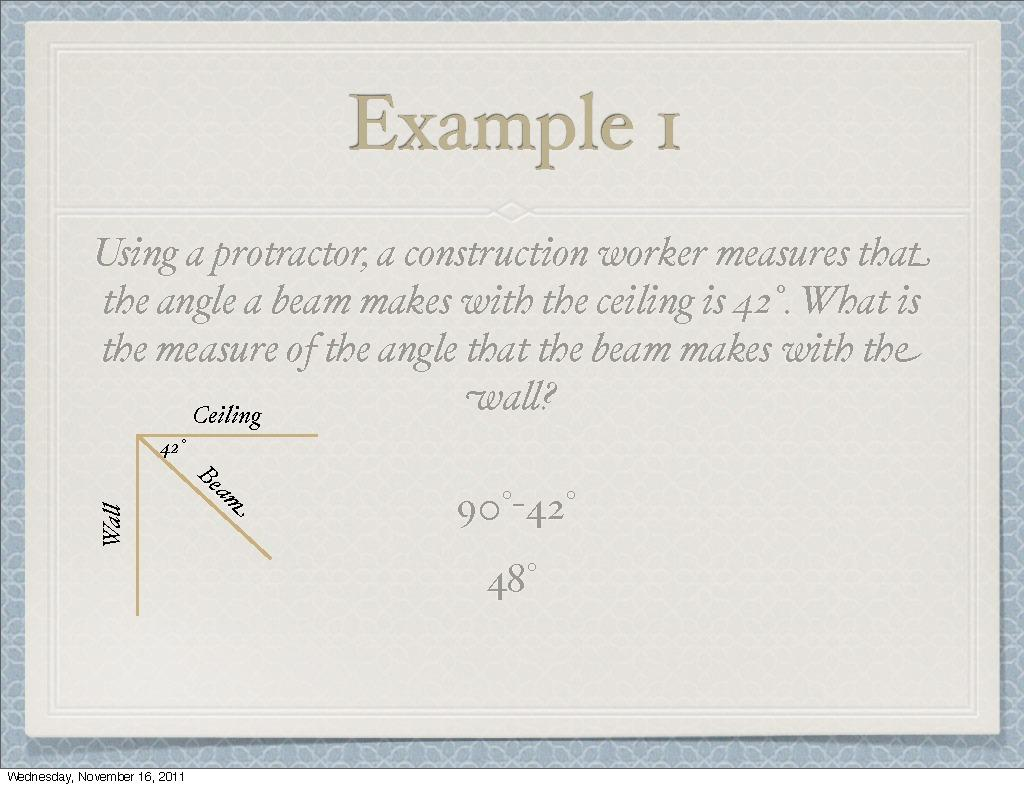paragraph: (78, 203, 977, 674)
title: (345, 81, 717, 187)
